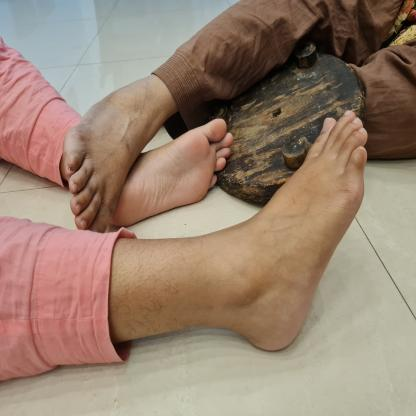leg: (108, 103, 376, 362), (54, 70, 178, 237), (116, 115, 238, 218)
